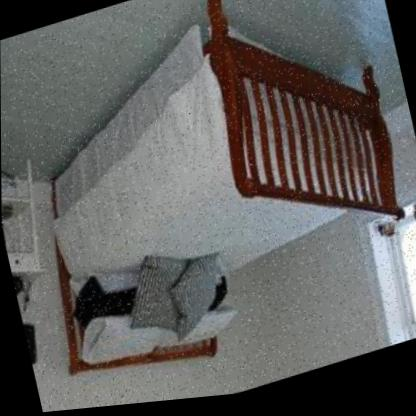Bed: (0, 0, 416, 386)
